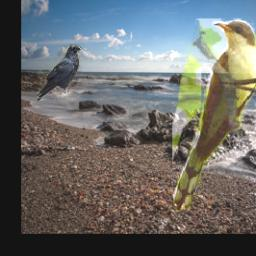Crow: (38, 45, 82, 102)
Cuckoo: (171, 19, 256, 213)
